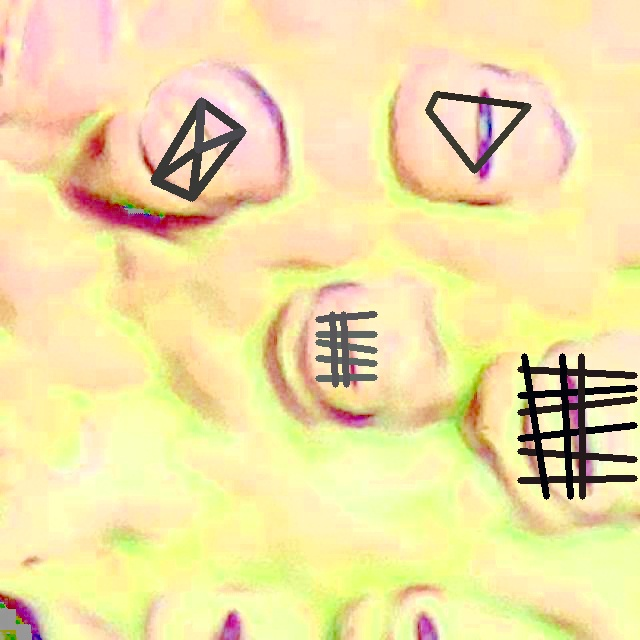close: (150, 97, 246, 201), (316, 311, 377, 387)
open: (518, 354, 636, 498), (426, 92, 530, 172)
